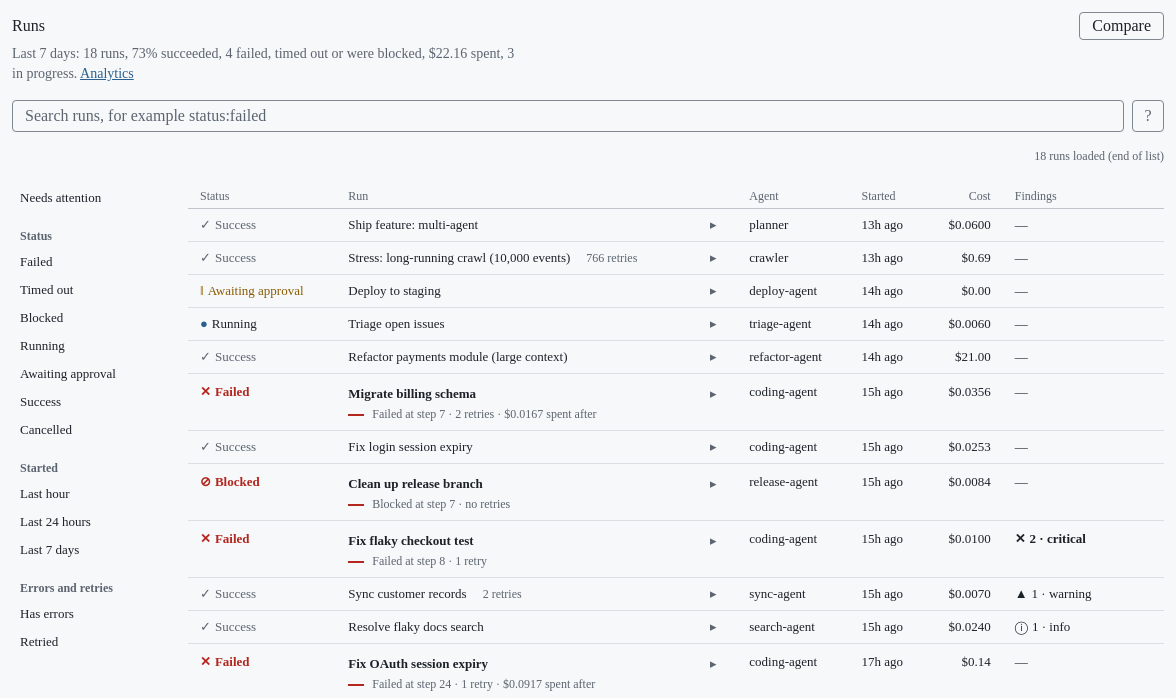
Test: runs list header › keeps the search and compare landmarks and the run link cell class; the old filter row is gone
Check: the form named "Search runs" is shown, box [12,100,1164,132]
What coordinates should you click on to do the following:
click the button "Compare"
I would click on:
 (1122, 26)
Its box is [1079,12,1164,40].
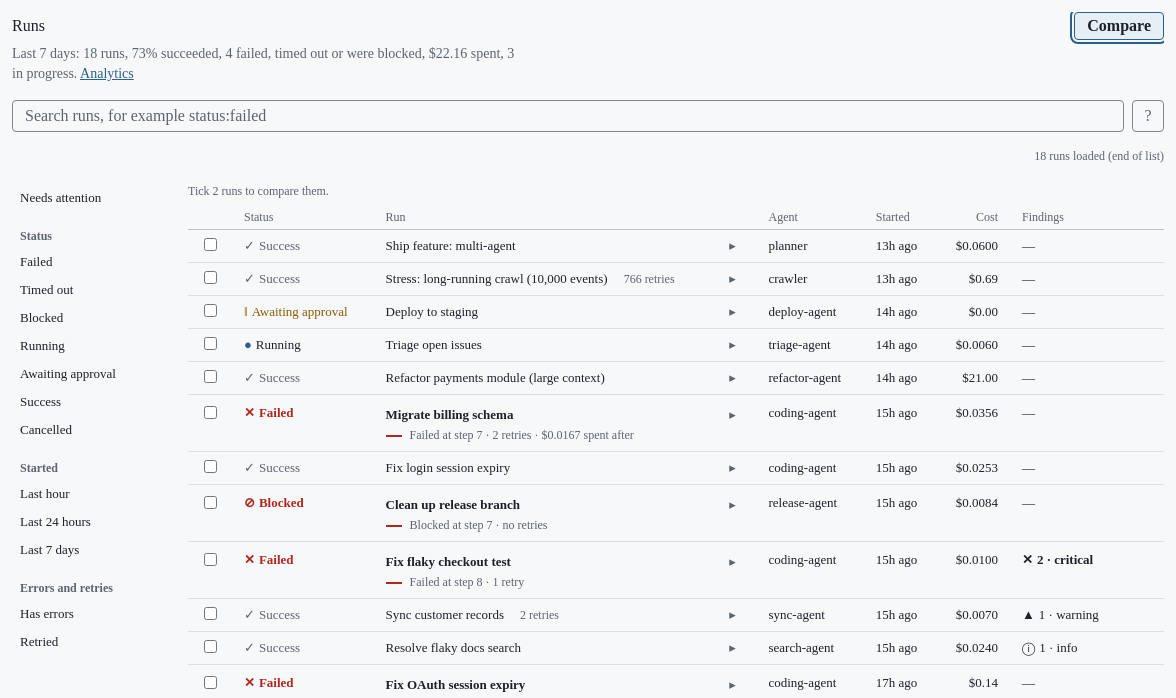
Check: the button "Failed" is shown, box [12,248,172,276]
Check: the element with test id "compare-bar" is shown, box [188,184,329,198]
